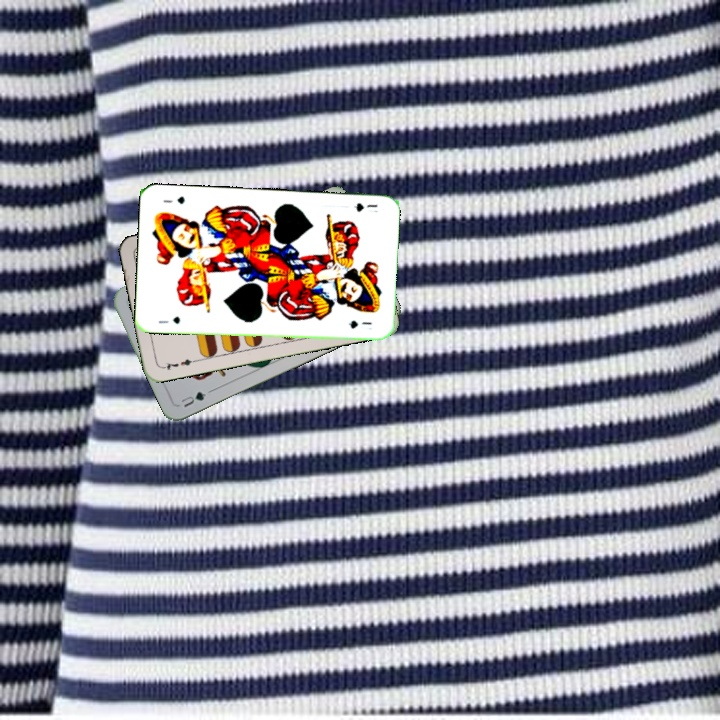E7: (158, 355, 198, 373)
GU: (177, 388, 209, 410), (350, 199, 380, 215), (155, 313, 182, 327)
